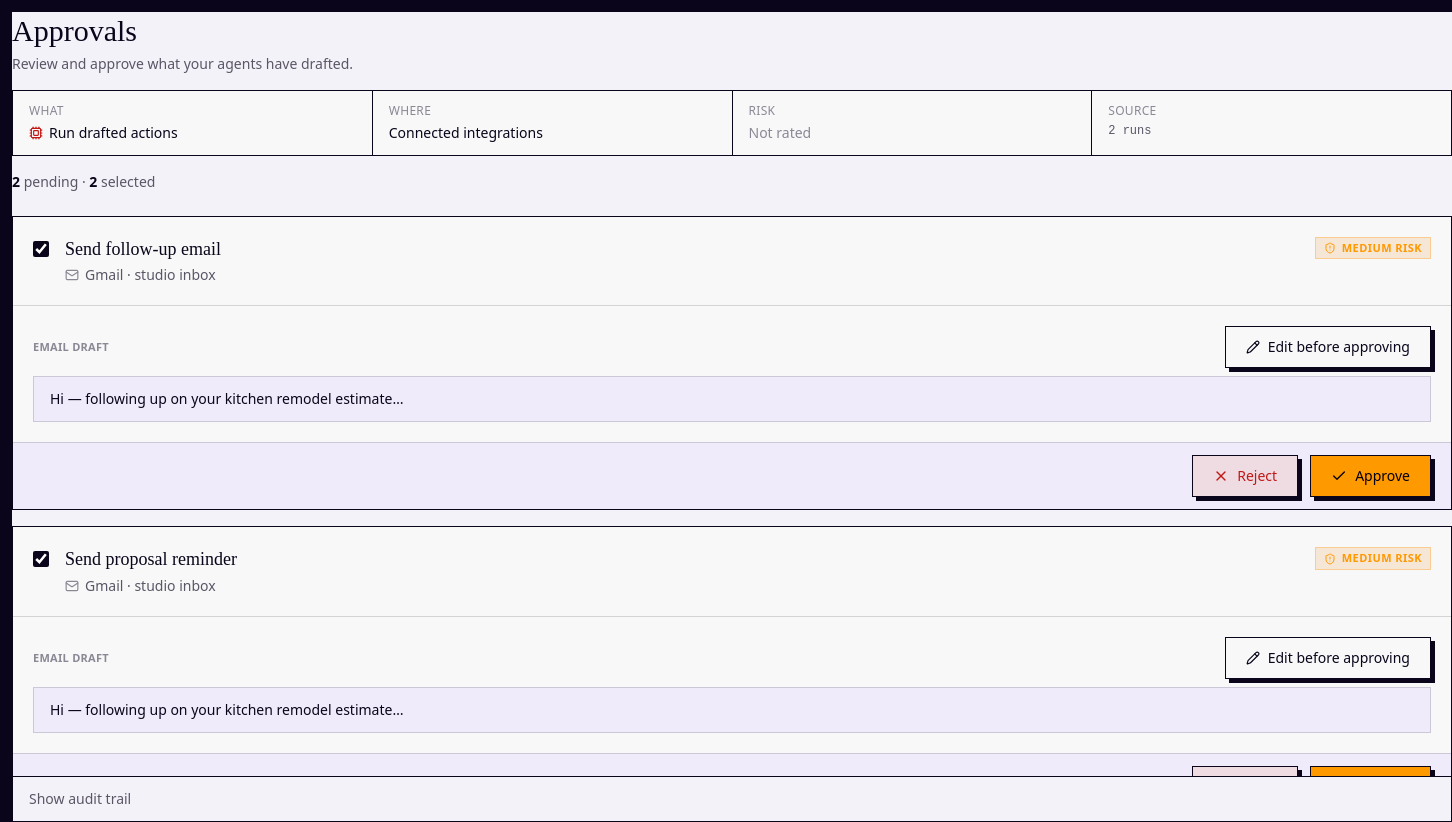
it: APPROVALS LIVE — APPROVAL_DENIED (409) surfaces by ApiError.code, not a crash › an approve that 409s APPROVAL_DENIED is recorded as a failed item, not thrown — surface survives
Check: the heading "Send follow-up email" is shown, box [65,238,221,258]
Click the button "Approve" at (1371, 476), box [1310,455,1431,497]
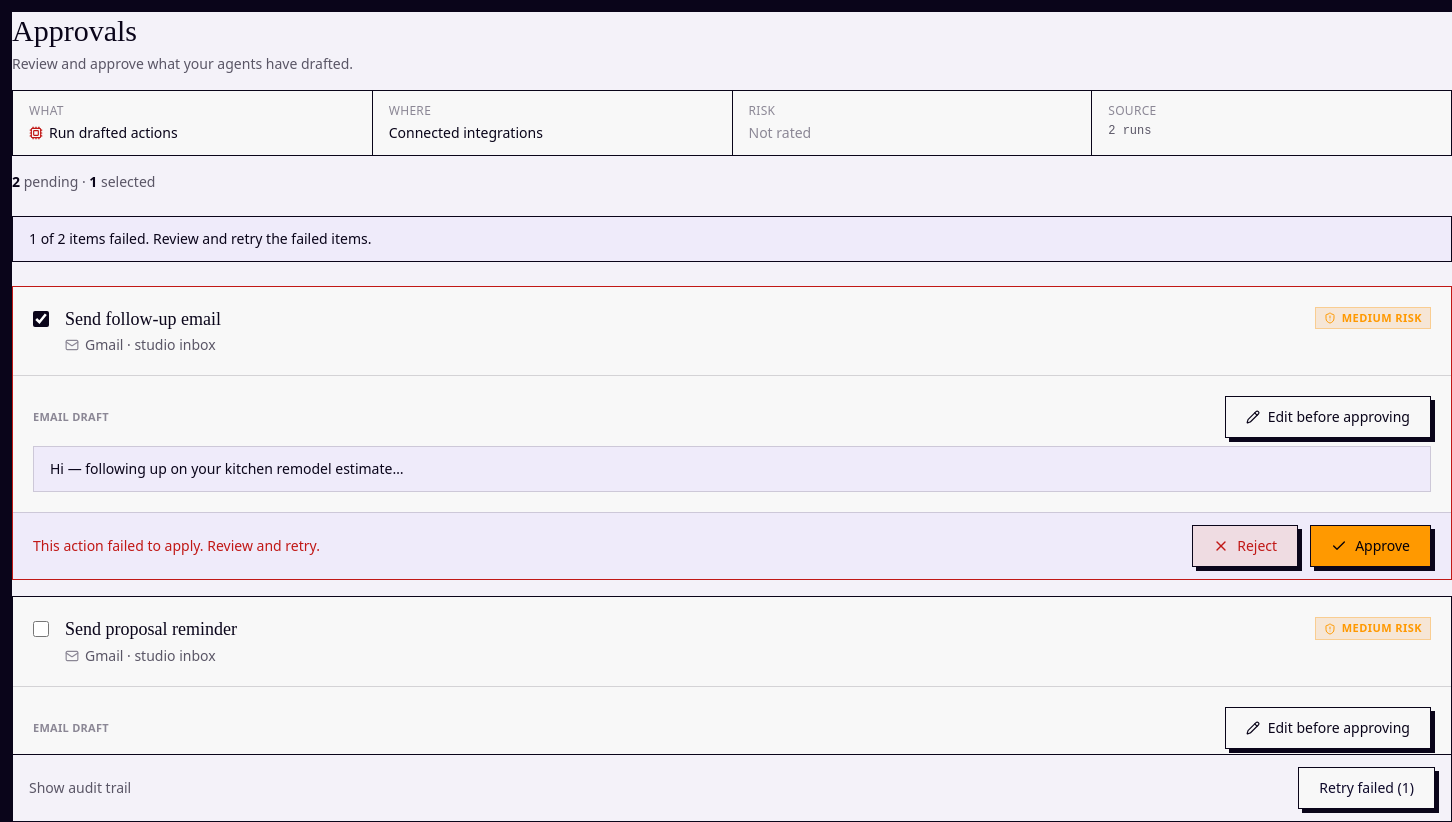
Check: the heading "Approvals" is shown, box [12,14,137,47]
Check: the button "Retry failed (1)" is shown, box [1298,767,1435,809]
